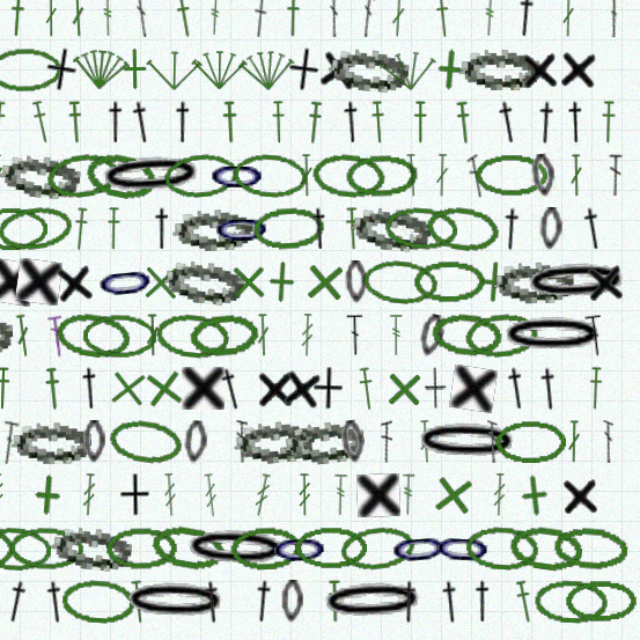chain: (144, 200, 239, 243), (378, 17, 472, 58), (512, 293, 606, 334), (336, 569, 430, 610), (218, 524, 312, 564), (418, 432, 511, 471), (166, 570, 259, 609), (253, 19, 346, 57), (508, 19, 601, 57), (492, 341, 585, 378), (0, 19, 89, 56), (132, 198, 200, 246), (189, 520, 257, 567), (305, 430, 377, 474), (153, 429, 221, 475), (57, 245, 126, 290), (363, 246, 435, 289), (201, 292, 273, 335), (262, 430, 334, 473), (104, 522, 176, 565), (427, 245, 495, 290), (107, 337, 175, 382), (353, 522, 422, 566), (499, 521, 566, 566), (344, 109, 415, 151), (60, 201, 131, 243), (99, 199, 165, 244), (325, 16, 392, 60), (201, 200, 269, 243), (416, 17, 487, 58), (2, 339, 73, 380), (194, 338, 260, 382), (329, 200, 396, 243), (373, 292, 440, 335), (461, 338, 528, 381), (193, 18, 264, 58), (210, 248, 280, 288), (432, 338, 497, 381), (0, 293, 66, 335), (538, 523, 604, 565), (164, 17, 231, 58), (487, 294, 557, 333), (261, 201, 327, 242), (462, 523, 528, 564), (223, 339, 287, 381), (278, 247, 343, 288), (392, 247, 457, 288), (113, 569, 178, 610), (40, 524, 106, 564), (361, 19, 430, 57), (71, 433, 140, 471), (296, 15, 353, 60), (458, 111, 527, 148), (224, 18, 289, 57), (259, 524, 323, 563), (522, 570, 586, 609), (69, 525, 134, 563), (50, 111, 114, 149), (359, 203, 423, 241), (132, 341, 196, 379), (49, 19, 112, 57), (452, 19, 515, 57), (152, 525, 215, 563), (38, 249, 102, 286), (471, 203, 534, 240), (418, 295, 481, 332), (315, 525, 378, 562), (549, 571, 612, 608), (488, 433, 550, 470), (11, 525, 73, 562), (6, 247, 61, 288), (142, 293, 197, 334), (396, 523, 450, 564), (434, 524, 488, 563), (131, 19, 183, 57), (294, 525, 346, 563), (240, 203, 292, 240), (244, 249, 296, 286), (421, 340, 447, 380), (354, 432, 378, 471), (519, 202, 542, 241), (512, 19, 534, 57), (219, 433, 241, 471), (105, 19, 125, 56), (527, 249, 547, 286), (359, 295, 379, 332), (133, 433, 152, 470), (304, 571, 323, 608)
double: (58, 433, 78, 471), (566, 341, 585, 379), (464, 203, 481, 241), (73, 341, 89, 379), (102, 341, 118, 379), (360, 341, 376, 378), (583, 65, 598, 102), (398, 65, 412, 102), (410, 203, 424, 240), (422, 433, 436, 470), (122, 65, 135, 102), (177, 65, 190, 102), (372, 65, 385, 102), (282, 341, 295, 378), (99, 65, 111, 102), (280, 65, 292, 102), (546, 65, 558, 102), (23, 203, 35, 240), (52, 203, 64, 240), (320, 203, 332, 240), (437, 203, 449, 240), (553, 203, 565, 240), (587, 203, 599, 240), (187, 341, 199, 378), (551, 433, 563, 470), (264, 433, 275, 470), (22, 433, 32, 470), (390, 433, 400, 470), (345, 65, 354, 102), (482, 433, 491, 470), (582, 433, 591, 470)
enseble_chain: (620, 284, 640, 355)
fan: (388, 109, 440, 151), (122, 109, 174, 150), (266, 110, 317, 150), (187, 111, 236, 149), (226, 111, 275, 148)
half_double: (61, 570, 90, 610), (247, 386, 275, 426), (487, 156, 513, 195), (503, 64, 528, 103), (171, 156, 196, 195), (561, 248, 586, 287), (23, 386, 48, 425), (495, 386, 520, 425), (276, 570, 301, 609), (521, 157, 545, 195), (491, 249, 515, 287), (28, 571, 52, 609), (97, 571, 121, 609), (524, 387, 547, 425), (233, 571, 256, 609), (403, 571, 426, 609), (439, 571, 462, 609), (86, 156, 107, 195), (150, 157, 172, 194), (208, 157, 230, 194), (354, 157, 376, 194), (190, 249, 212, 286), (326, 249, 348, 286), (128, 387, 150, 424), (467, 571, 489, 608), (16, 157, 37, 194), (548, 157, 569, 194), (210, 65, 230, 103), (504, 571, 524, 609), (369, 387, 387, 425), (435, 65, 452, 103), (51, 157, 68, 195), (324, 157, 341, 195), (453, 157, 470, 195), (122, 249, 139, 287), (98, 387, 115, 425), (172, 571, 189, 609), (68, 65, 84, 102), (118, 157, 134, 194), (380, 157, 396, 194), (252, 157, 267, 194), (294, 157, 309, 194), (579, 157, 594, 194), (358, 249, 373, 286), (56, 387, 71, 424), (568, 387, 583, 424), (307, 65, 321, 102), (417, 157, 431, 194), (152, 249, 166, 286), (343, 571, 357, 608)
single: (50, 293, 92, 335), (449, 385, 491, 427), (74, 293, 115, 334), (151, 385, 192, 426), (182, 385, 223, 426), (432, 477, 473, 518), (334, 109, 374, 151), (430, 110, 470, 150), (503, 478, 543, 518), (303, 385, 342, 426), (21, 110, 60, 149), (285, 294, 324, 333), (322, 294, 361, 333), (468, 294, 507, 333), (82, 478, 121, 517), (107, 294, 144, 334), (181, 295, 219, 333), (391, 387, 429, 425), (369, 479, 407, 517), (543, 110, 579, 149), (566, 294, 602, 333), (159, 111, 196, 148), (257, 295, 294, 332), (218, 387, 255, 424), (510, 111, 545, 149), (545, 479, 580, 517), (97, 110, 130, 150), (307, 110, 339, 150), (282, 387, 316, 424), (330, 387, 358, 424), (163, 479, 191, 516), (428, 387, 447, 424)
treble: (278, 479, 297, 517), (235, 479, 251, 517), (31, 65, 45, 102), (240, 65, 254, 102), (477, 65, 491, 102), (131, 479, 145, 516), (201, 479, 215, 516), (320, 341, 333, 378), (397, 341, 410, 378), (349, 479, 362, 516), (407, 479, 420, 516), (486, 479, 499, 516), (148, 65, 160, 102), (30, 479, 42, 516), (53, 479, 65, 516), (318, 479, 330, 516)
